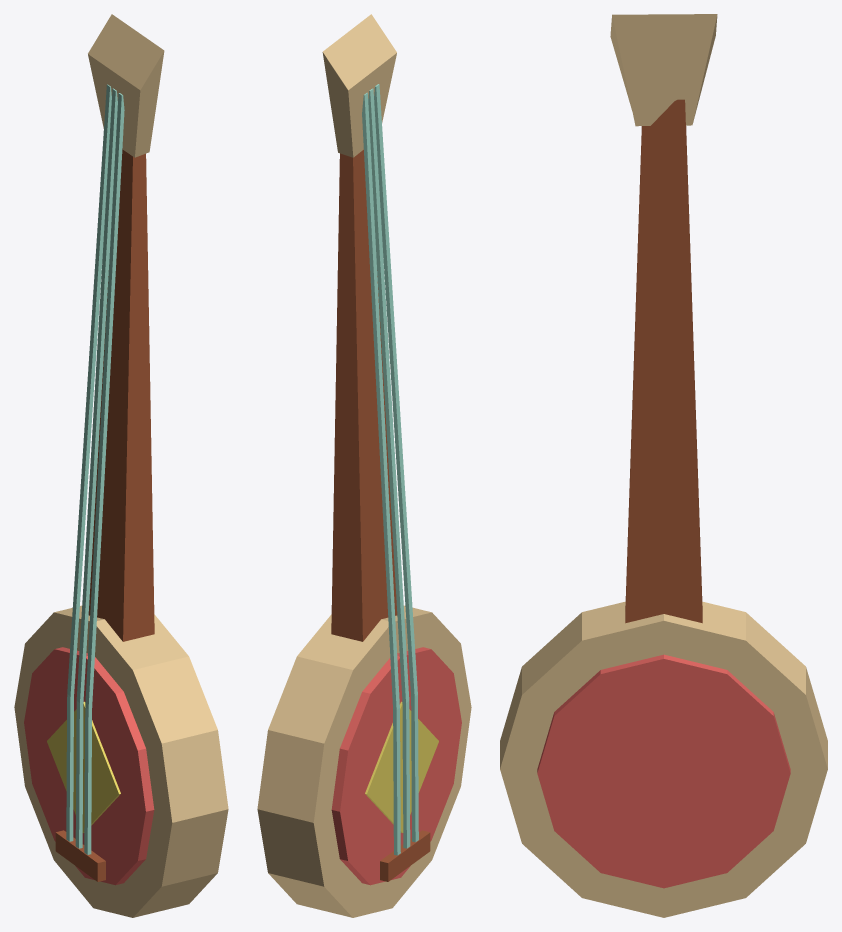
The model's file is Banjo.glb.
The picture shows the model from 3 angles, left to right: view 1: azimuth 30°, elevation 25°; view 2: azimuth 150°, elevation 25°; view 3: azimuth 270°, elevation 25°; orthographic projection. The views are drawn at different scales.
Parts seen in each view (by area): view 1: Banjo; view 2: Banjo; view 3: Banjo.
Boxes of the visible parts, left/top/right/bottom form: Banjo: left=14, top=14, right=228, bottom=917; Banjo: left=257, top=14, right=471, bottom=917; Banjo: left=500, top=14, right=827, bottom=917.
Size of the model in its own units: 1.18 by 11.98 by 3.97.
